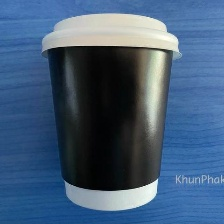paper_cup: (36, 7, 186, 216)
